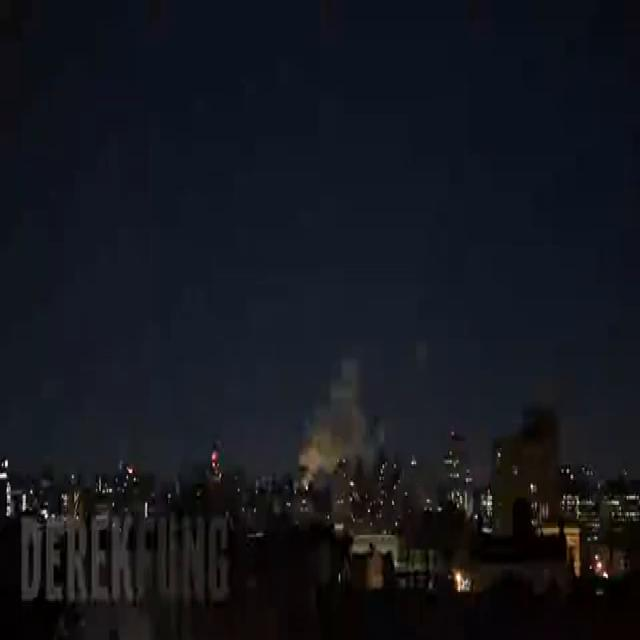smoke: (298, 359, 383, 478), (418, 341, 427, 364)
